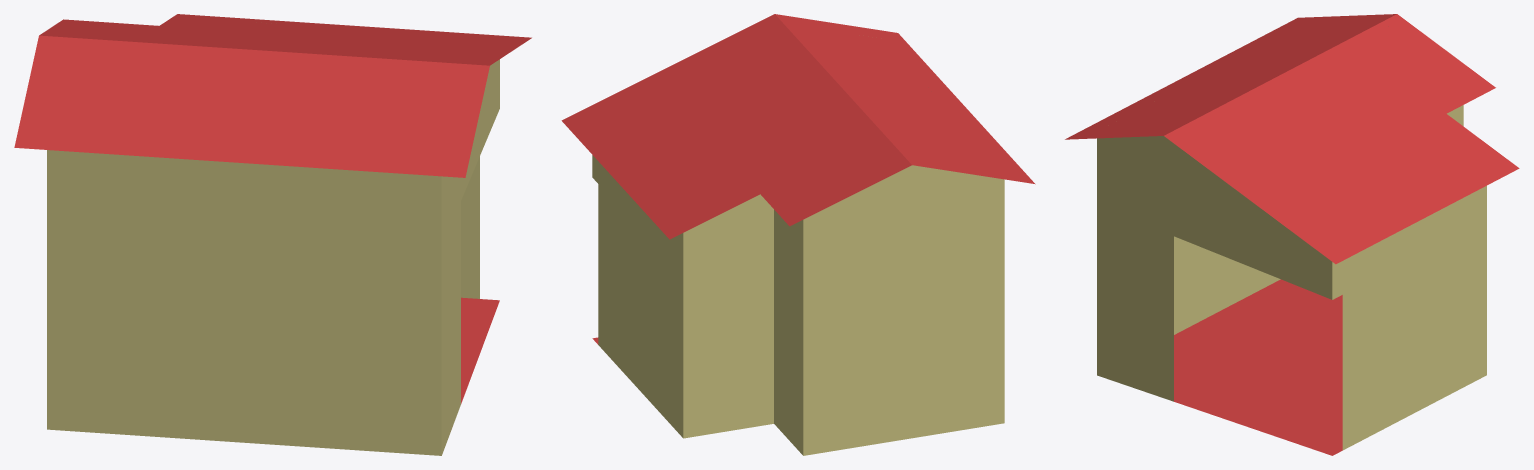
3 renders of one model, left to right at view 1: azimuth 30°, elevation 25°; view 2: azimuth 150°, elevation 25°; view 3: azimuth 270°, elevation 25°, orthographic. The views are drawn at different scales.
Parts seen in each view (by area): view 1: group_5, group_3, group_4, group_6; view 2: group_5, group_3, group_4; view 3: group_5, group_3, group_6, group_4.
Boxes of the visible parts, left/top/right/bottom form: group_5: left=47, top=59, right=499, bottom=455; group_3: left=14, top=14, right=531, bottom=177; group_4: left=40, top=14, right=489, bottom=177; group_6: left=461, top=297, right=499, bottom=403; group_5: left=592, top=155, right=1004, bottom=455; group_3: left=561, top=14, right=1035, bottom=238; group_4: left=651, top=14, right=935, bottom=239; group_5: left=1097, top=105, right=1486, bottom=450; group_3: left=1066, top=14, right=1518, bottom=264; group_6: left=1174, top=279, right=1342, bottom=455; group_4: left=1065, top=14, right=1519, bottom=190.
Bounding box in the file's own units: 16.46 × 14.75 × 9.82.
